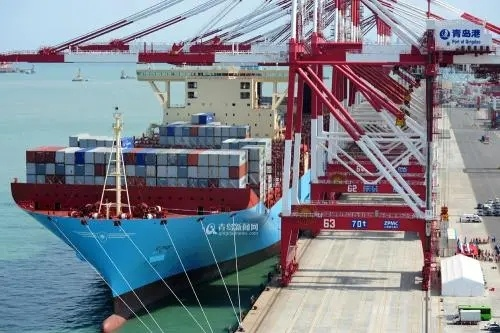Cargoship: (7, 59, 316, 311)
